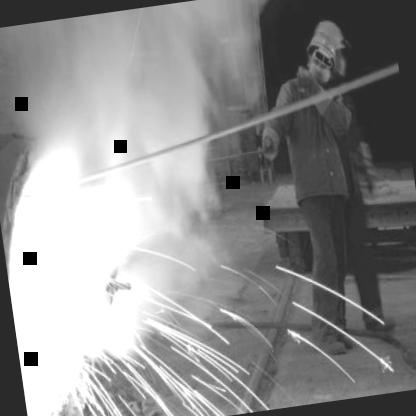helmet: (300, 32, 340, 90), (316, 17, 350, 76)
